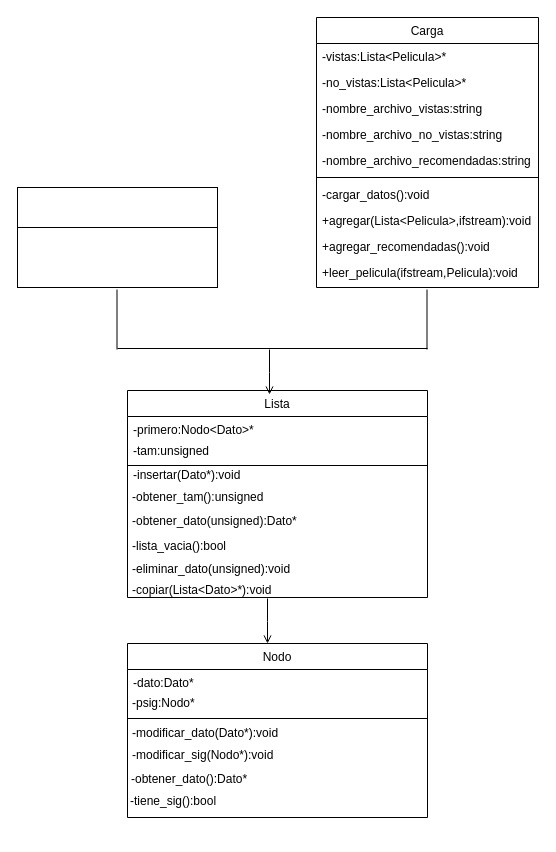
This 556x852 diagram has some shape labels left out. Here are the shapes that lost their labels. From the top down, the centre of each, then its label:
At (117,207): "Validacion".
At (117,257): "+num_entre_rangos(string,int,int):int".
